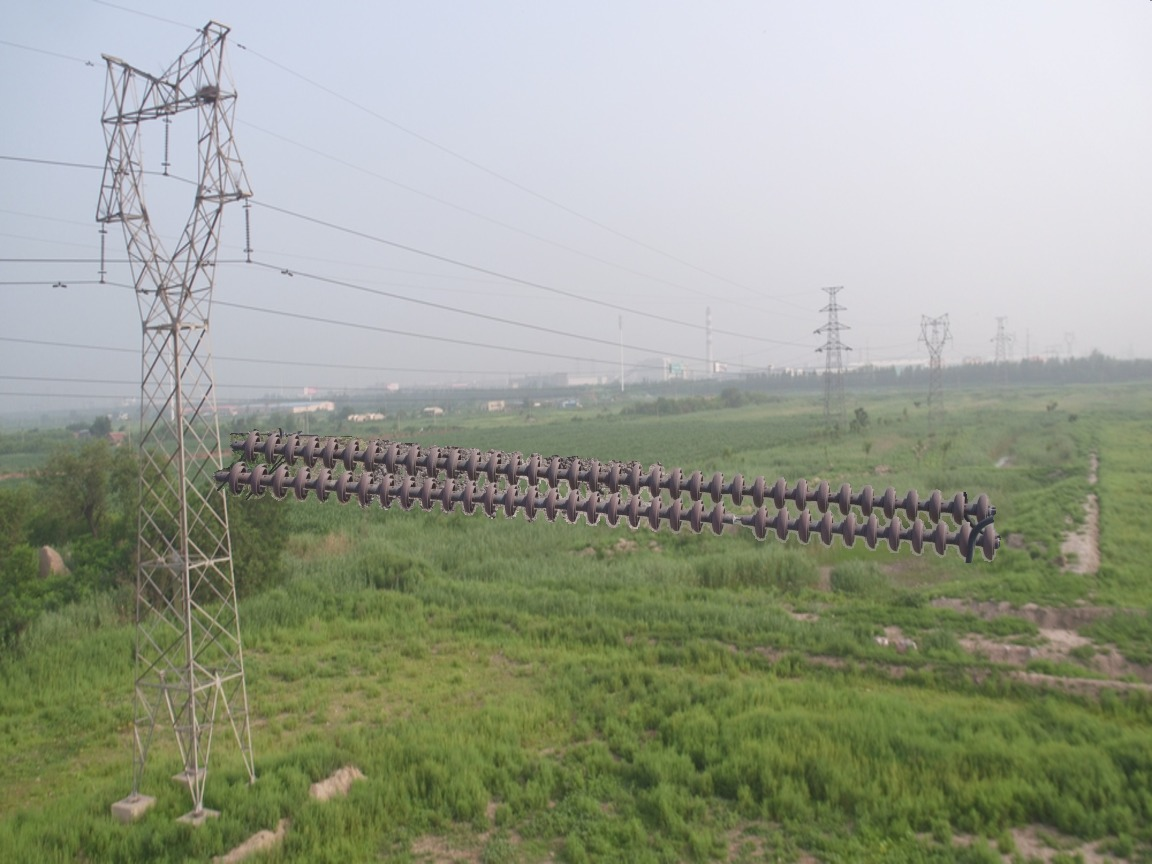defect: (703, 499, 774, 539)
